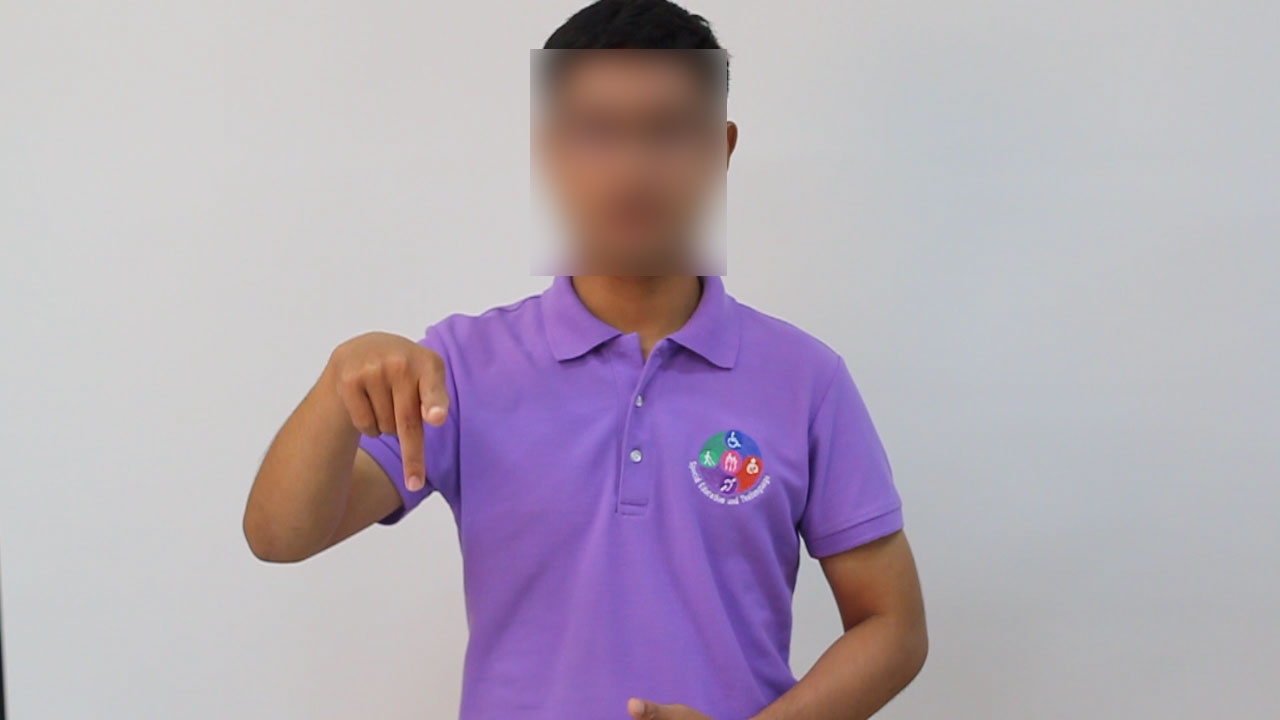por: (317, 313, 458, 504)
